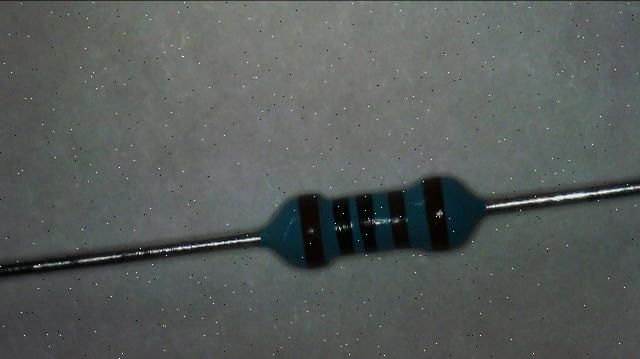black: (333, 198, 355, 255), (357, 194, 378, 252)
brown: (422, 178, 448, 251), (300, 194, 324, 268), (388, 190, 410, 248)
resistor: (247, 147, 496, 285)
